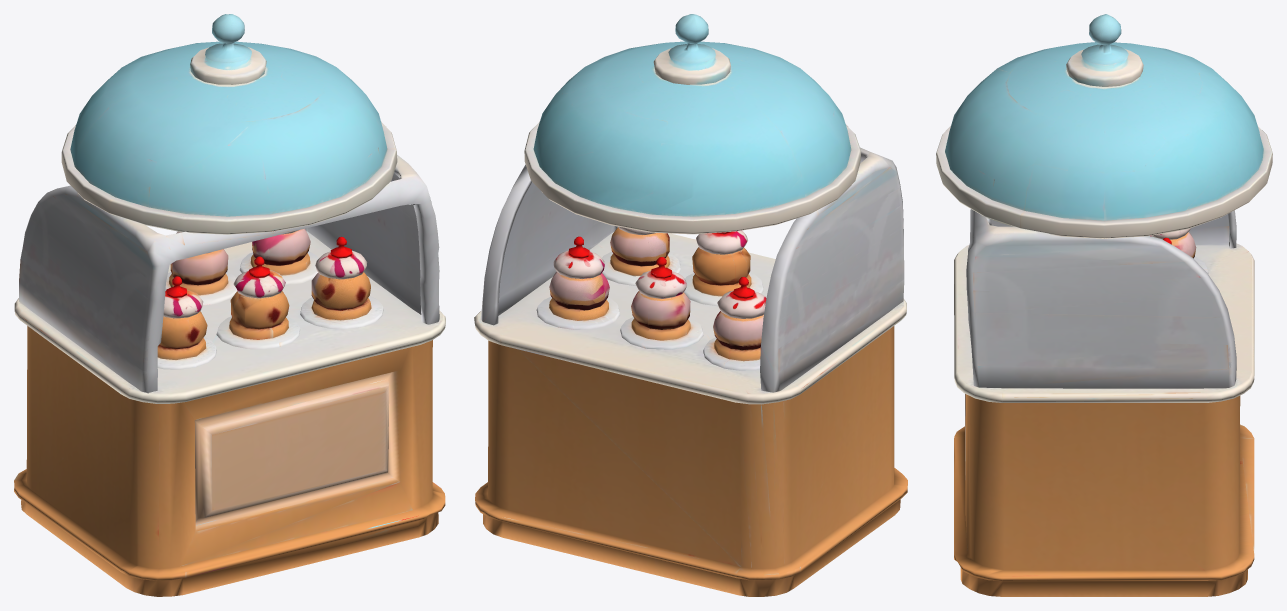
The model's file is prop_kitchen_pastry_case.glb.
3 views of the same model, side by side, from view 1: azimuth 30°, elevation 25°; view 2: azimuth 150°, elevation 25°; view 3: azimuth 270°, elevation 25° (orthographic).
Size of the model in its own units: 0.6735 by 1 by 0.6053.
1 material, 1 textured.
